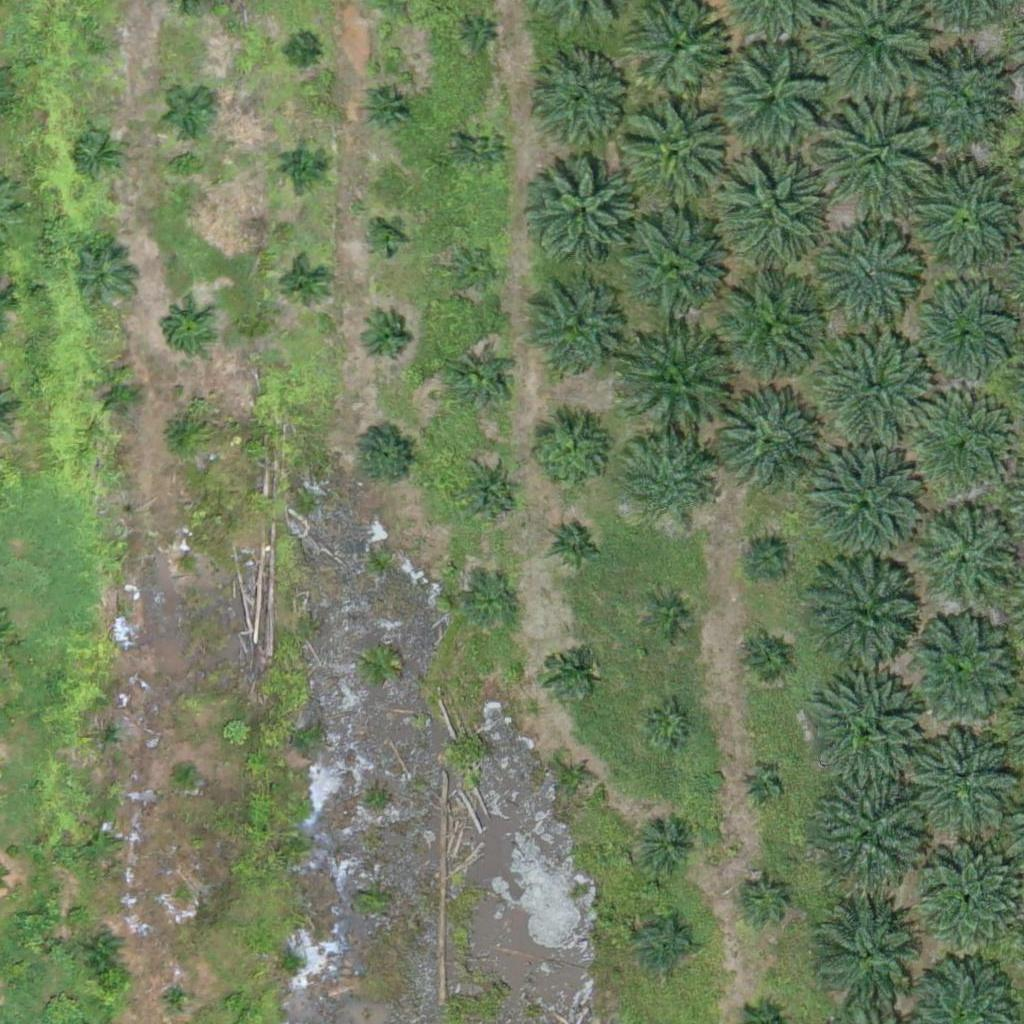Kelapa_Sawit: (707, 145, 832, 271), (814, 93, 939, 219), (822, 330, 935, 444), (711, 42, 824, 155), (708, 386, 821, 499), (812, 675, 925, 788), (813, 777, 926, 890), (813, 892, 926, 1005), (900, 386, 1013, 499), (714, 274, 826, 388), (622, 330, 734, 444), (618, 214, 730, 328), (621, 97, 733, 211), (910, 163, 1022, 276), (810, 452, 922, 565), (810, 564, 922, 677), (907, 613, 1019, 726), (913, 291, 1013, 392), (825, 231, 925, 332), (923, 844, 1023, 945), (919, 730, 1019, 831), (901, 55, 1001, 155), (534, 161, 634, 261), (522, 287, 622, 387), (524, 410, 611, 498), (539, 57, 626, 145), (624, 437, 711, 525), (459, 462, 522, 525), (73, 245, 136, 308), (354, 421, 417, 484), (453, 352, 515, 415), (638, 816, 700, 879), (637, 913, 699, 976), (547, 514, 609, 577), (276, 258, 326, 309), (360, 312, 410, 363), (740, 873, 790, 924), (94, 371, 144, 422), (156, 406, 206, 457), (466, 581, 516, 631), (542, 645, 592, 695), (458, 124, 508, 174), (278, 141, 328, 191), (166, 86, 216, 136), (73, 129, 123, 179), (161, 304, 211, 354), (644, 701, 694, 751), (645, 592, 695, 642), (447, 243, 497, 293), (363, 83, 413, 133), (742, 533, 792, 583), (743, 636, 793, 686), (367, 218, 405, 256), (559, 759, 597, 797), (742, 768, 780, 806), (160, 981, 198, 1019), (84, 933, 122, 971), (80, 824, 118, 862), (89, 718, 126, 756), (465, 24, 490, 49), (288, 38, 313, 63), (87, 31, 112, 56), (174, 758, 199, 783), (171, 549, 196, 574)
